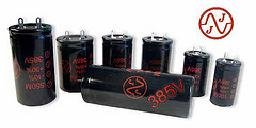Electrolytic-Capacitor: (75, 62, 196, 120), (7, 16, 55, 108), (212, 51, 241, 116)
